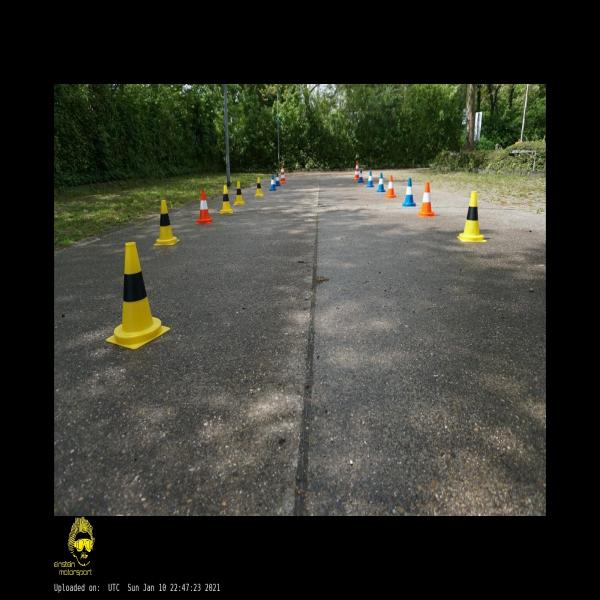blue_cone: (402, 178, 416, 207), (377, 173, 386, 192), (366, 171, 374, 188), (269, 175, 277, 191), (358, 169, 364, 183), (275, 174, 281, 186)
large_orange_cone: (280, 164, 286, 183), (353, 161, 359, 180)
orange_cone: (417, 183, 435, 216), (196, 191, 212, 224), (385, 175, 396, 198)
yellow_cone: (107, 241, 170, 348), (457, 191, 486, 242), (154, 200, 180, 246), (220, 186, 232, 214), (233, 181, 244, 205), (255, 178, 263, 196)
